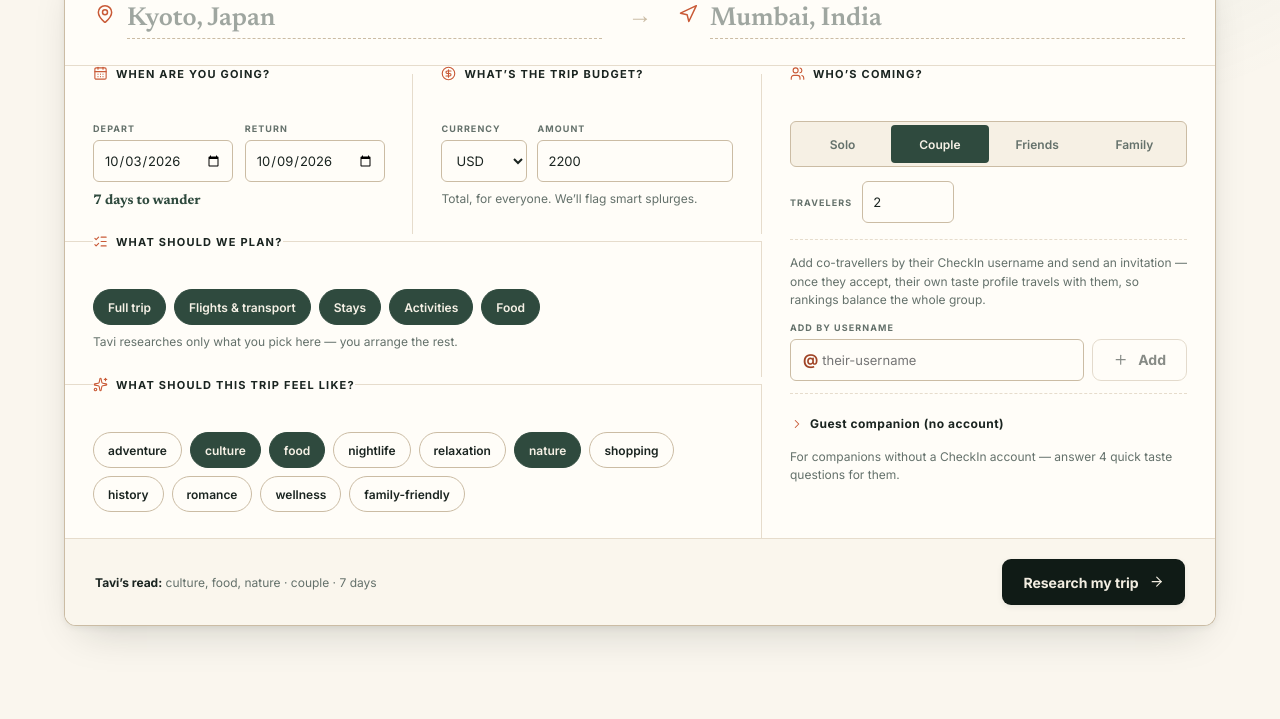
Test: blocks research while a linked member has not finished their taste profile
(page scrolled)
Type "kai" into the field labelled "Add by username".
click(952, 360); type("kai")  # box 820,340 -> 1083,380
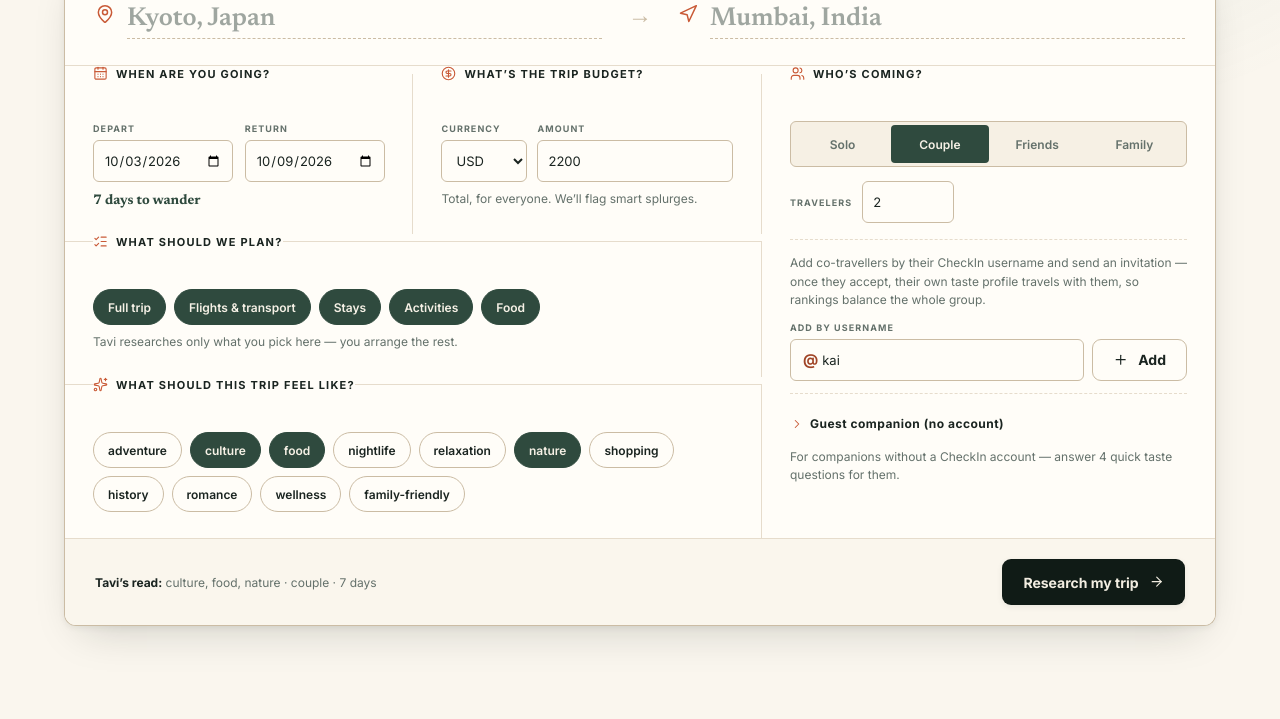
Click the button "Add".
click(1139, 360)  # box 1092,339 -> 1187,381
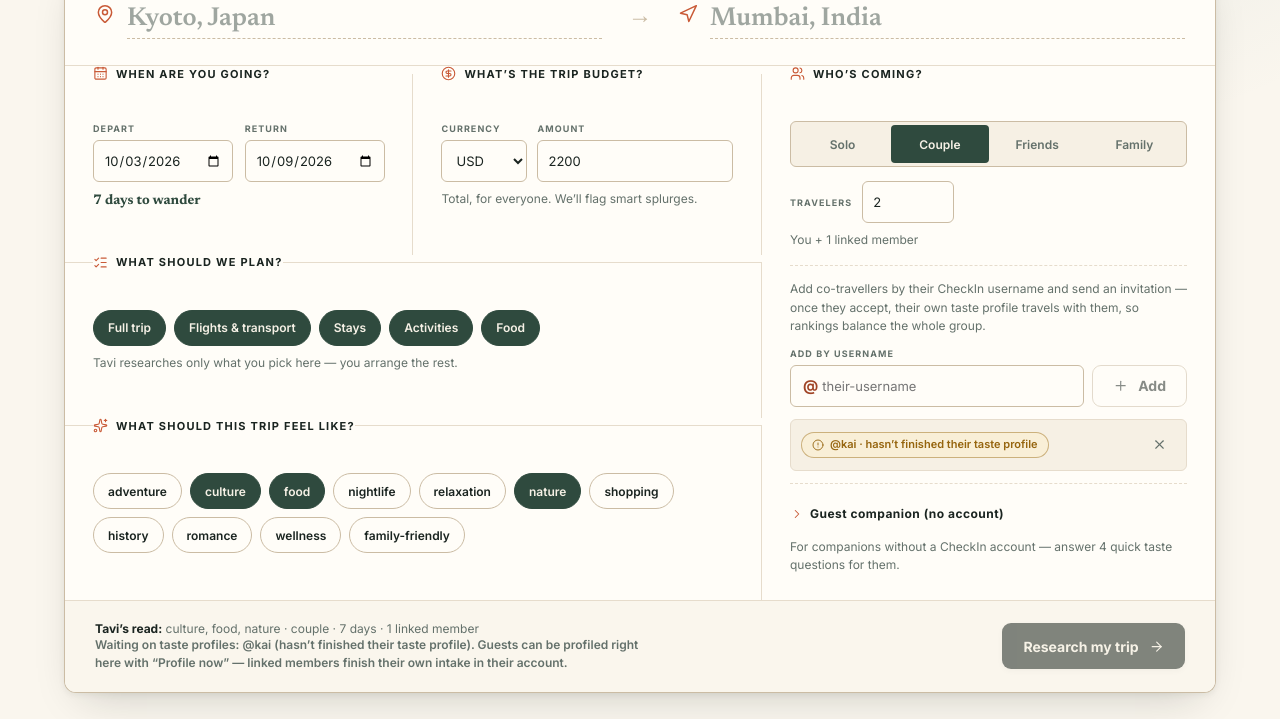
Expected: the text "@kai · hasn’t finished their taste profile" is shown, 801,432 -> 1049,458
Expected: the button "Research my trip" is disabled, 1002,624 -> 1185,670
Expected: the text "Waiting on taste profiles" shows "@kai", 242,637 -> 471,652
